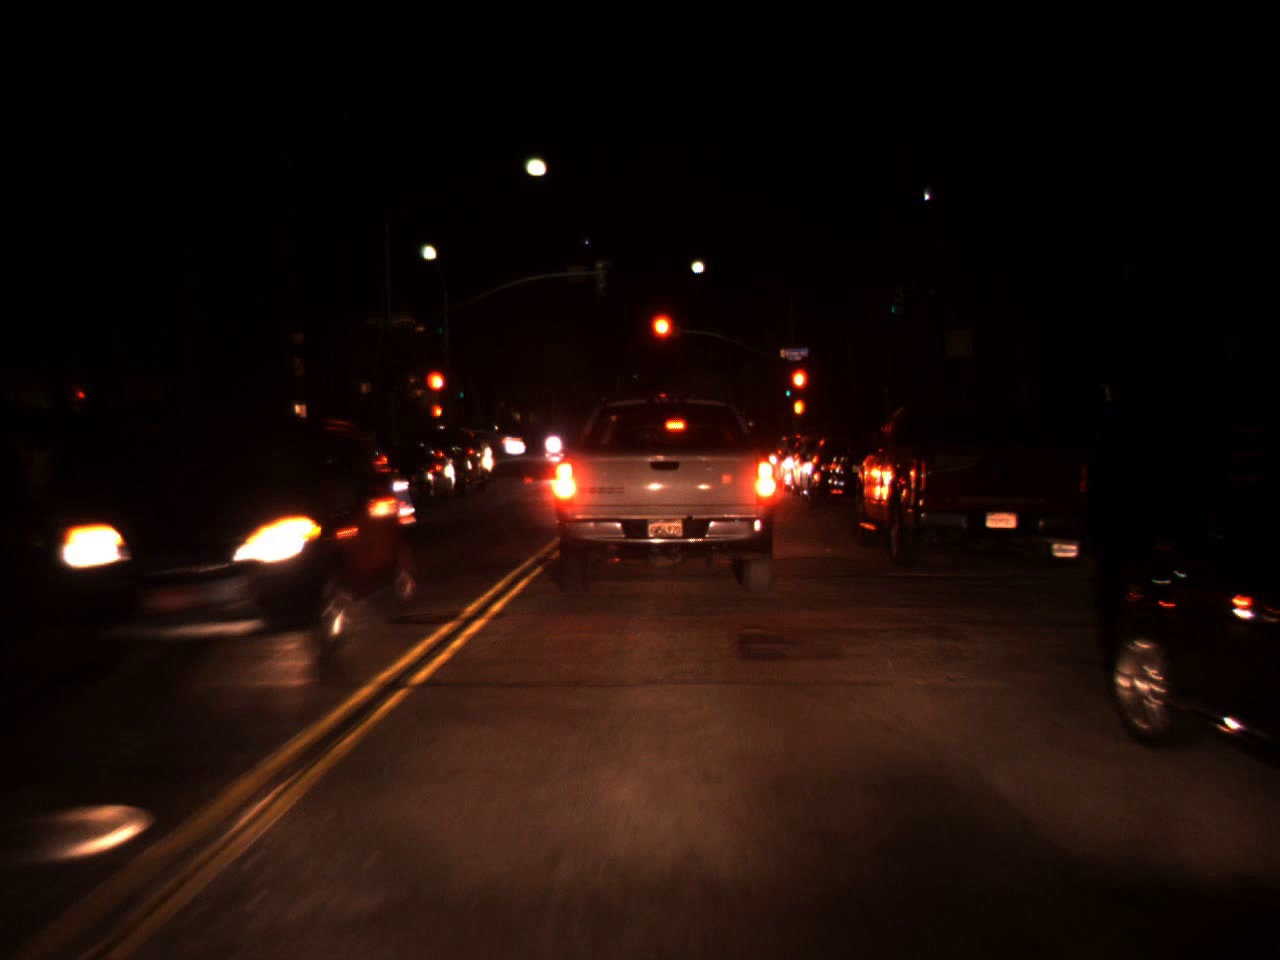stop: (648, 310, 676, 366), (424, 367, 449, 415), (788, 365, 809, 413)
